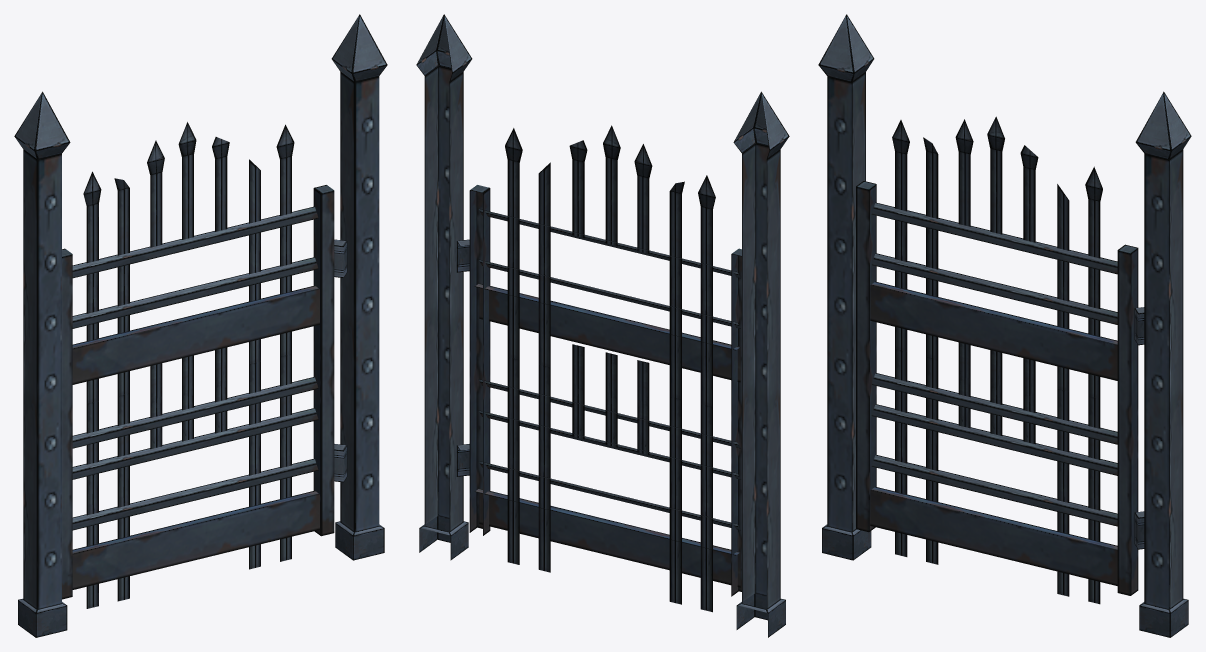
Rendered from 2_WGJ_JianYuMen_01.FBX.
The picture shows the model from 3 angles, left to right: view 1: azimuth 30°, elevation 25°; view 2: azimuth 150°, elevation 25°; view 3: azimuth 330°, elevation 25°; orthographic projection.
Parts seen in each view (by area): view 1: 2_WGJ_JianYuMen_01; view 2: 2_WGJ_JianYuMen_01; view 3: 2_WGJ_JianYuMen_01.
Part boxes in pixels (x1,y1,x2,y2): 2_WGJ_JianYuMen_01: (14,14,387,637); 2_WGJ_JianYuMen_01: (416,14,789,637); 2_WGJ_JianYuMen_01: (818,14,1191,637).
Size of the model in its own units: 405 by 588 by 40.47.
Materials: 1 (1 with a texture image).
